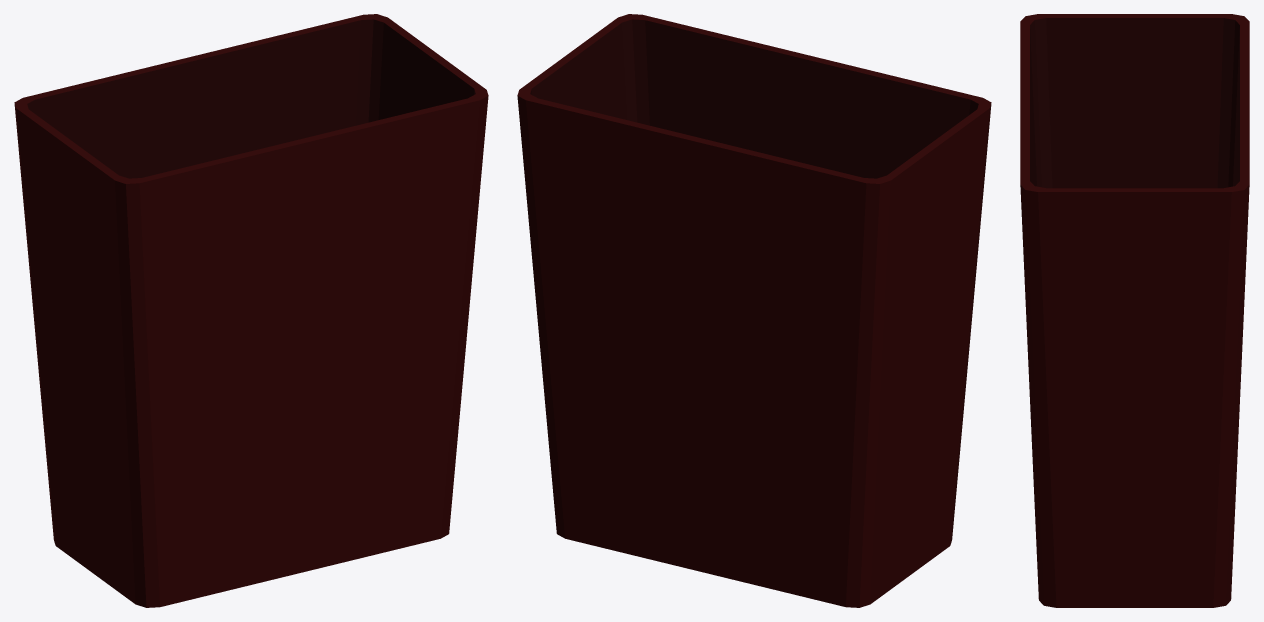
Rendered from TrashBin.001.glb.
The picture shows the model from 3 angles, left to right: view 1: azimuth 30°, elevation 25°; view 2: azimuth 150°, elevation 25°; view 3: azimuth 270°, elevation 25°; orthographic projection.
Visible parts, largest first — view 1: TrashBin.001; view 2: TrashBin.001; view 3: TrashBin.001.
Boxes of the visible parts, x1,y1,x2,y2 form: TrashBin.001: (14, 14, 488, 607); TrashBin.001: (517, 14, 991, 607); TrashBin.001: (1020, 14, 1249, 607).
Size of the model in its own units: 2.64 by 2.97 by 1.43.
